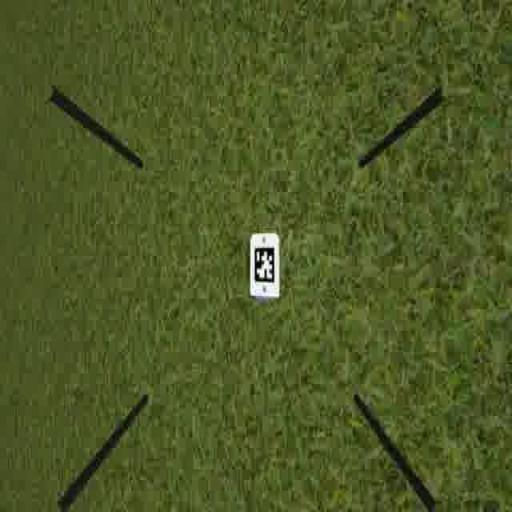UGV: (246, 232, 283, 308)
